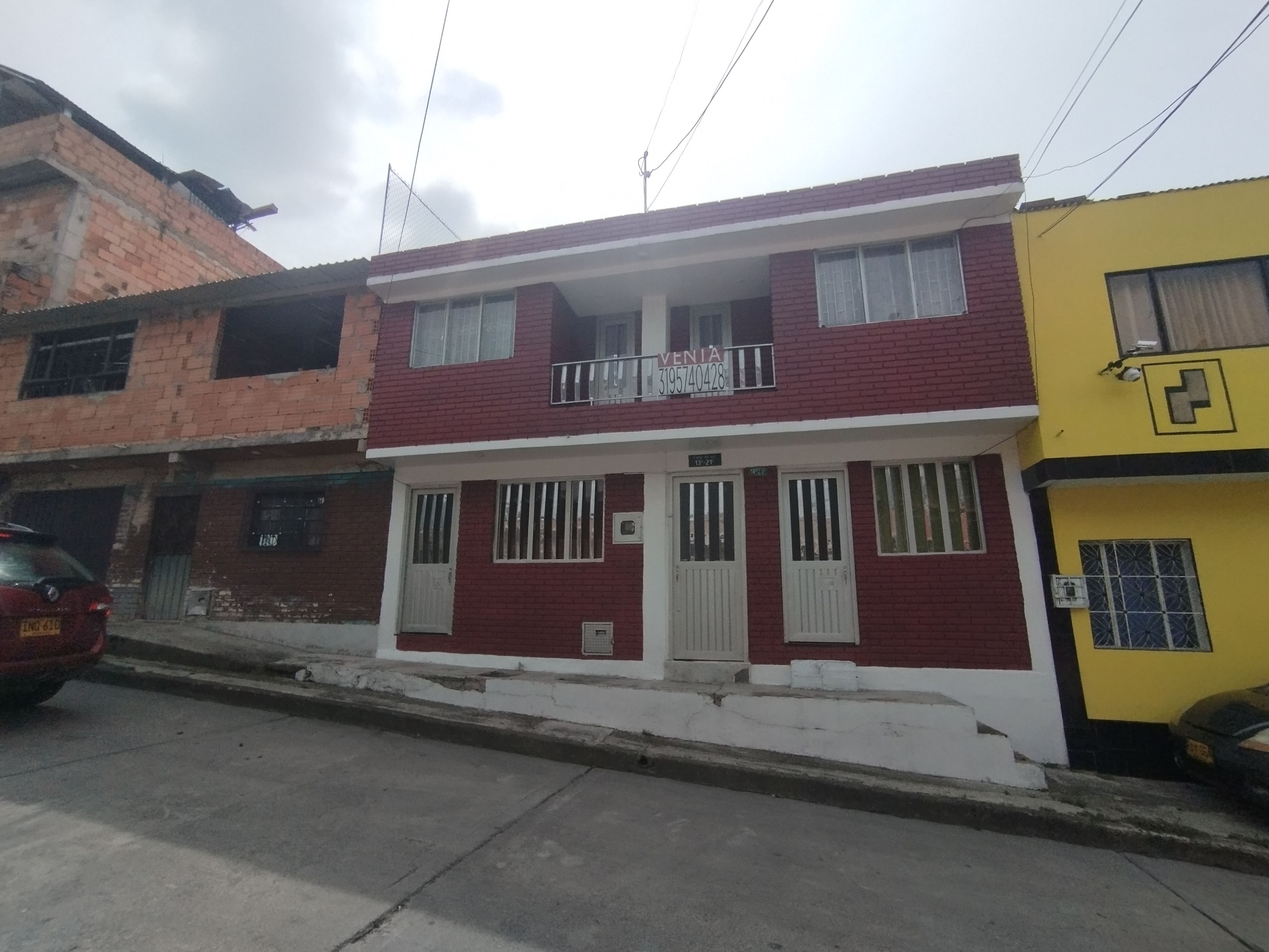House: (366, 247, 1056, 772), (1017, 177, 1259, 775), (3, 287, 360, 672)
